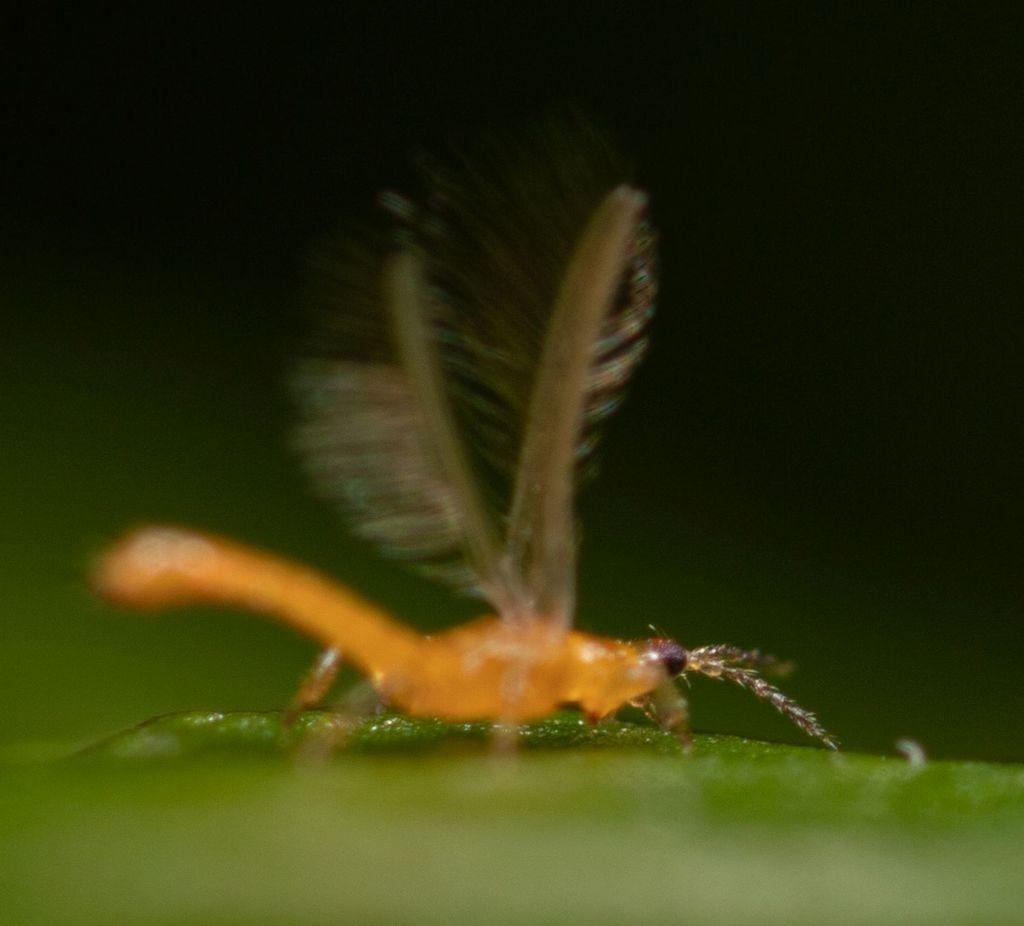tiny_pests: (20, 171, 1024, 926)
